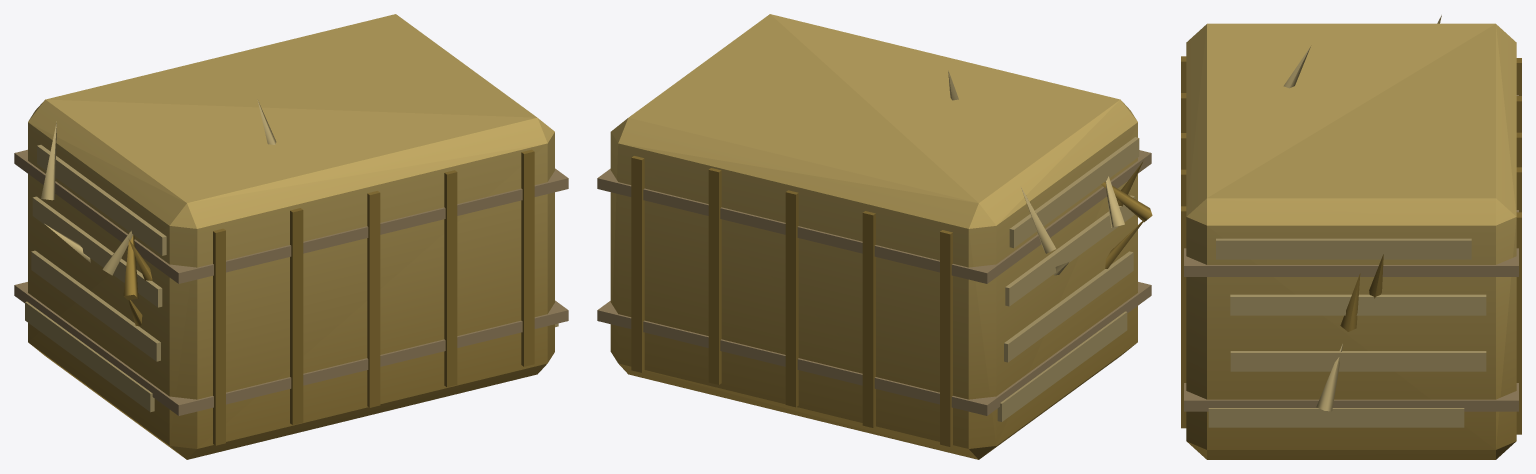
Rendered from hay-bale-square.glb.
The picture shows the model from 3 angles, left to right: view 1: azimuth 30°, elevation 25°; view 2: azimuth 150°, elevation 25°; view 3: azimuth 270°, elevation 25°; orthographic projection.
Parts seen in each view (by area): view 1: hay_bale_square; view 2: hay_bale_square; view 3: hay_bale_square.
Boxes of the visible parts, <box> form: hay_bale_square: <box>14,14,568,459</box>; hay_bale_square: <box>597,14,1152,459</box>; hay_bale_square: <box>1181,15,1521,459</box>.
Bounding box in the file's own units: 1.25 × 0.8032 × 0.826.
